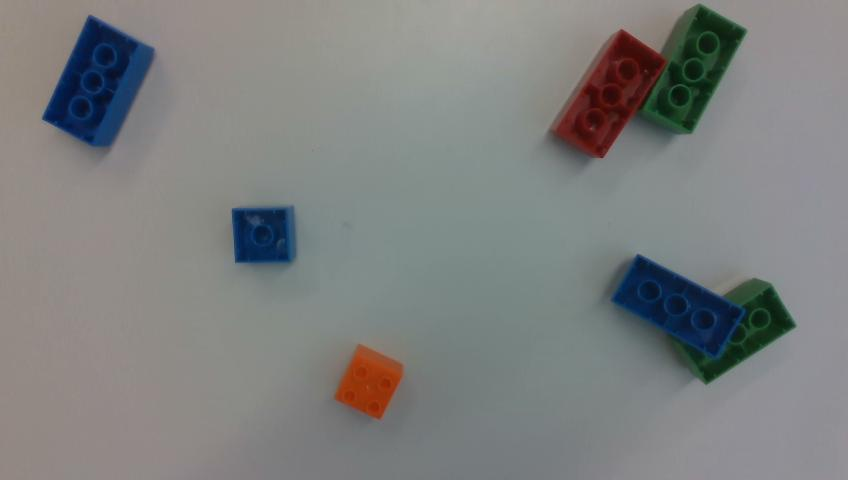2x2_blue: (233, 207, 294, 262)
2x2_orange: (336, 344, 402, 418)
4x2_blue: (44, 16, 153, 146), (612, 255, 742, 358)
4x2_green: (638, 4, 746, 133), (670, 278, 796, 383)
4x2_red: (551, 31, 666, 156)
